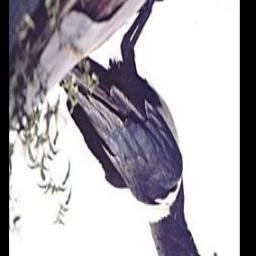Crow: (53, 0, 219, 256)
